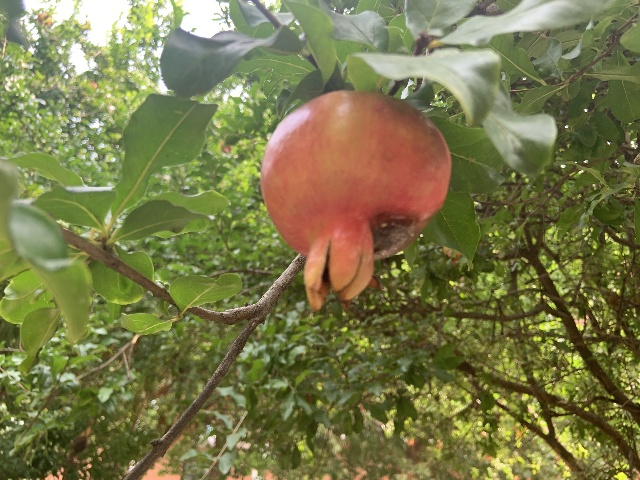ripe: (260, 90, 453, 311)
